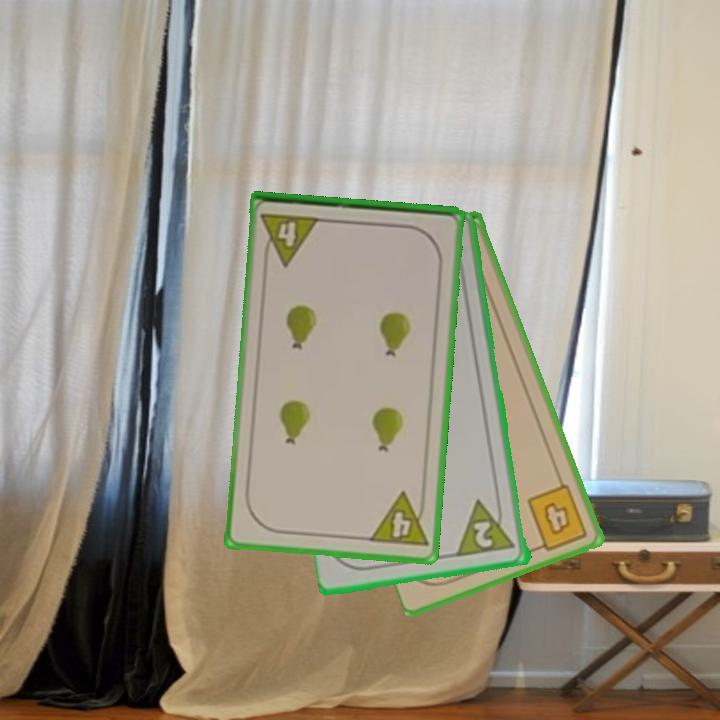2p: (455, 494, 519, 560)
4b: (523, 480, 591, 555)
4p: (365, 488, 431, 550), (258, 209, 323, 268)
